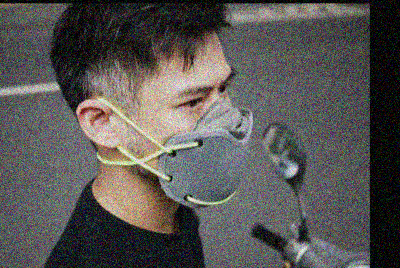with_mask: (121, 67, 254, 210)
